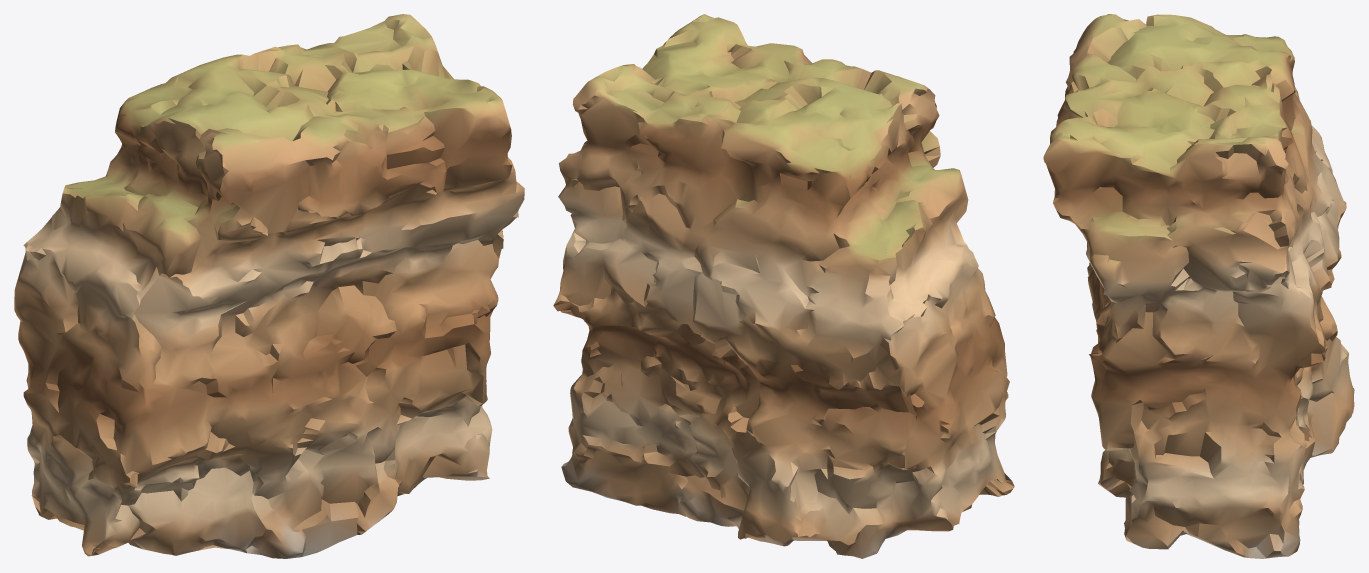
Rendered from shore_cliff_c.glb.
3 views of the same model, side by side, from view 1: azimuth 30°, elevation 25°; view 2: azimuth 150°, elevation 25°; view 3: azimuth 270°, elevation 25° (orthographic). The views are drawn at different scales.
Parts seen in each view (by area): view 1: shore_cliff_c; view 2: shore_cliff_c; view 3: shore_cliff_c.
Part boxes in pixels (box(x1,y1,x2,y2)): shore_cliff_c: box(14, 14, 524, 558); shore_cliff_c: box(553, 14, 1014, 558); shore_cliff_c: box(1043, 14, 1354, 558).
Bounding box in the file's own units: 29.98 × 30.53 × 20.16.
